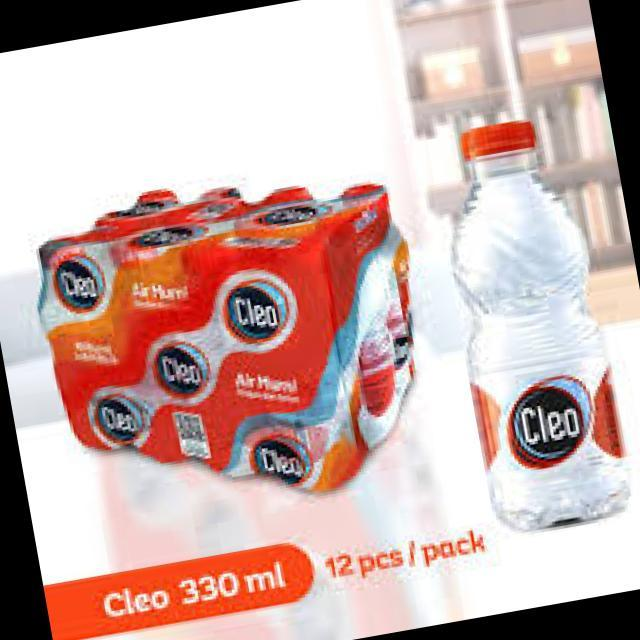good: (413, 103, 640, 554)
